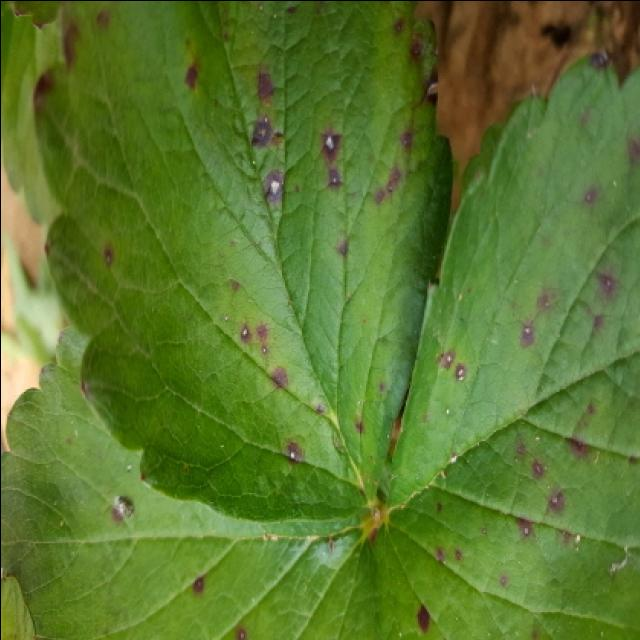Leaf Spot: (30, 2, 453, 523), (371, 48, 638, 640), (0, 326, 379, 640)
